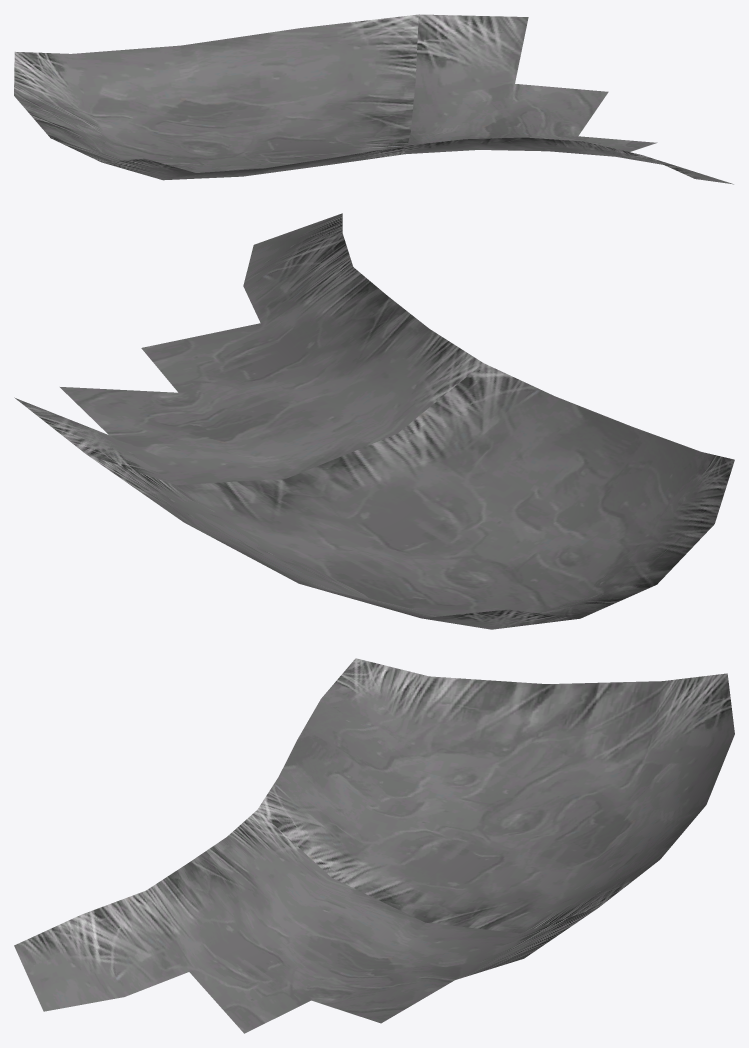
Rendered from SWORDLIGHT20_PS-AREA01_16.fbx.
The picture shows the model from 3 angles, top to bottom: view 1: azimuth 30°, elevation 25°; view 2: azimuth 150°, elevation 25°; view 3: azimuth 270°, elevation 25°; orthographic projection. The views are drawn at different scales.
Parts seen in each view (by area): view 1: SWORDLIGHT20_PS-AREA01_16; view 2: SWORDLIGHT20_PS-AREA01_16; view 3: SWORDLIGHT20_PS-AREA01_16.
Boxes of the visible parts, left/top/right/bottom form: SWORDLIGHT20_PS-AREA01_16: left=14, top=14, right=733, bottom=184; SWORDLIGHT20_PS-AREA01_16: left=14, top=213, right=734, bottom=629; SWORDLIGHT20_PS-AREA01_16: left=14, top=658, right=734, bottom=1033.
Size of the model in its own units: 95482 by 12907 by 95095.
2 materials, 2 textured.
